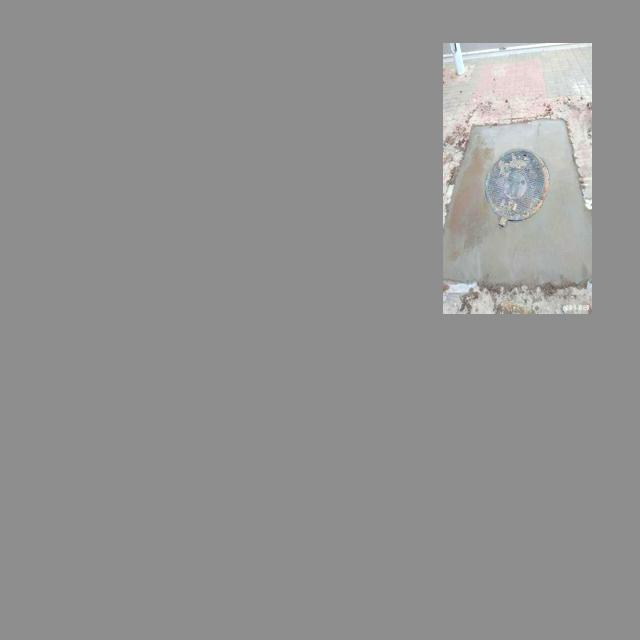good: (447, 117, 586, 294)
